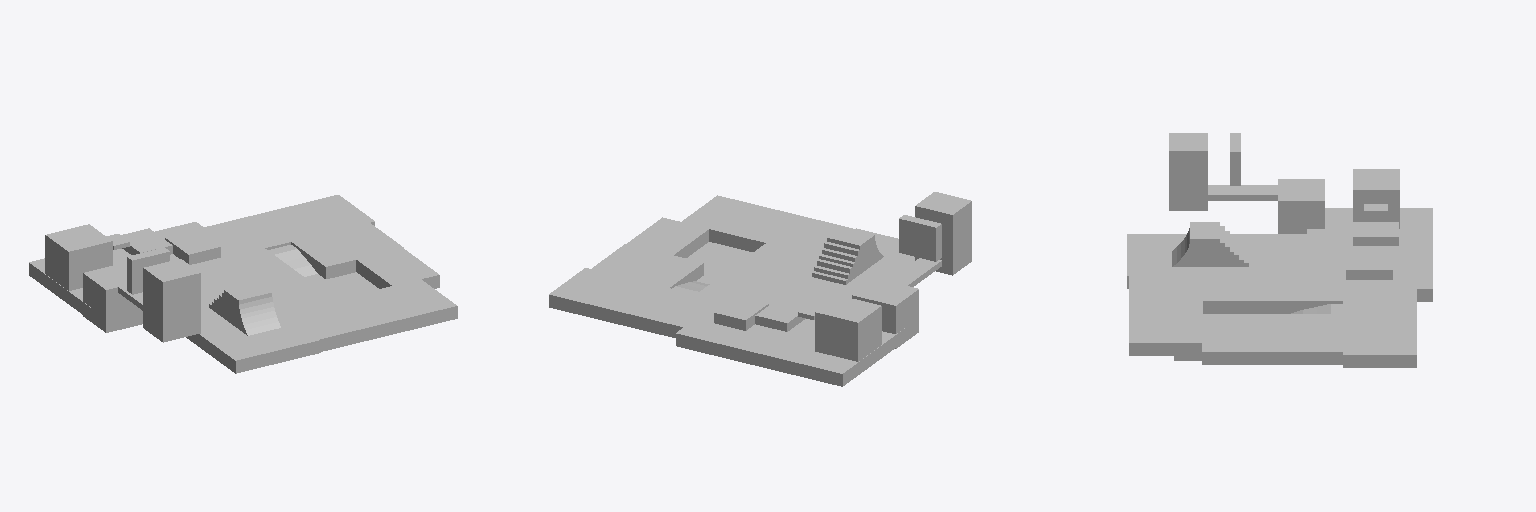
Rendered from test_level_1.obj.
3 views of the same model, side by side, from view 1: azimuth 30°, elevation 25°; view 2: azimuth 150°, elevation 25°; view 3: azimuth 270°, elevation 25° (orthographic).
Visible parts, largest first — view 1: level_Cube.002; view 2: level_Cube.002; view 3: level_Cube.002.
Part boxes in pixels (left/top/right/bottom): level_Cube.002: left=29, top=195, right=457, bottom=373; level_Cube.002: left=549, top=192, right=971, bottom=386; level_Cube.002: left=1127, top=133, right=1432, bottom=367.
Size of the model in its own units: 32.31 by 10.4 by 28.3.